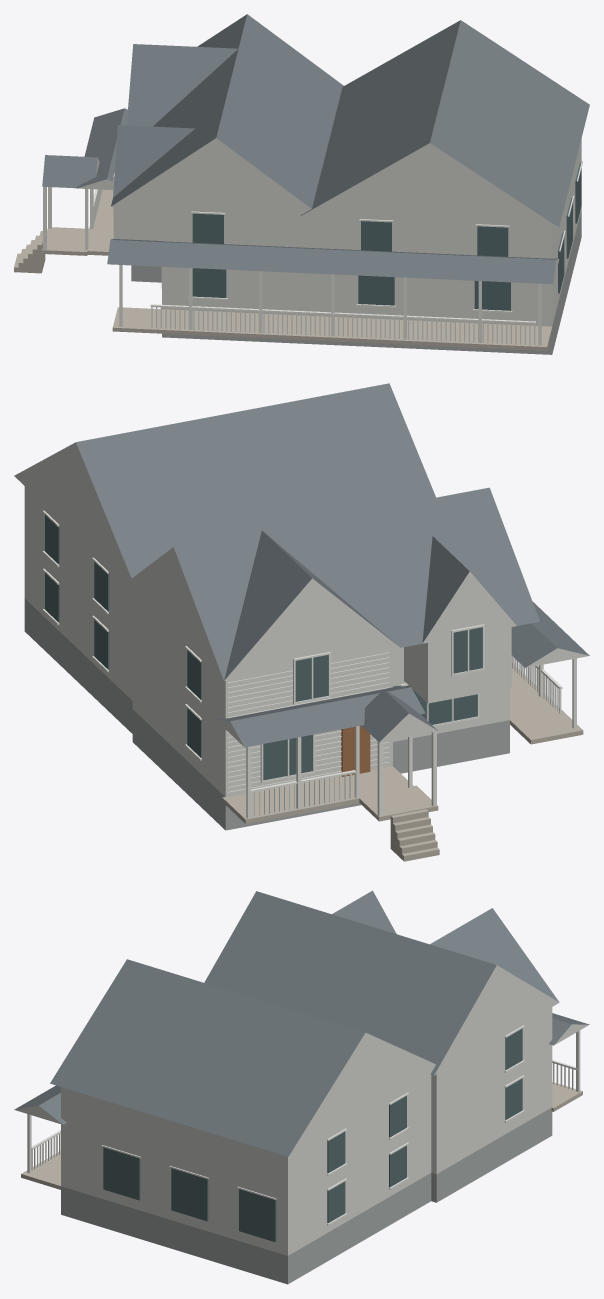
File: merner-41-bay-20261008-study.glb
The picture shows the model from 3 angles, top to bottom: view 1: azimuth 30°, elevation 25°; view 2: azimuth 150°, elevation 25°; view 3: azimuth 270°, elevation 25°; orthographic projection. The views are drawn at different scales.
Visible parts, largest first — view 1: 41-bay-roof, 41-bay-wall, 41-bay-deck, 41-bay-trim, 41-bay-glass, 41-bay-foundation; view 2: 41-bay-roof, 41-bay-wall, 41-bay-foundation, 41-bay-trim, 41-bay-deck, 41-bay-glass, 41-bay-door; view 3: 41-bay-roof, 41-bay-wall, 41-bay-foundation, 41-bay-glass, 41-bay-trim, 41-bay-deck.
Part boxes in pixels (x1,y1,x2,y2): 41-bay-roof: (42, 14, 589, 284); 41-bay-wall: (113, 139, 581, 326); 41-bay-deck: (14, 189, 552, 350); 41-bay-trim: (43, 160, 582, 345); 41-bay-glass: (192, 162, 581, 310); 41-bay-foundation: (131, 210, 581, 354); 41-bay-roof: (14, 383, 589, 747); 41-bay-wall: (24, 486, 511, 797); 41-bay-foundation: (24, 598, 509, 830); 41-bay-trim: (42, 510, 576, 818); 41-bay-deck: (222, 663, 583, 861); 41-bay-glass: (45, 515, 482, 780); 41-bay-door: (341, 725, 370, 776); 41-bay-roof: (14, 890, 589, 1156); 41-bay-wall: (61, 1007, 552, 1255); 41-bay-foundation: (61, 1107, 552, 1284); 41-bay-glass: (103, 1028, 522, 1241); 41-bay-trim: (27, 1025, 580, 1225); 41-bay-deck: (21, 1082, 582, 1189).
Size of the model in its own units: 21.63 by 8.9 by 21.97.
